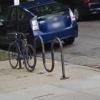Bicycle: (7, 27, 60, 88)
